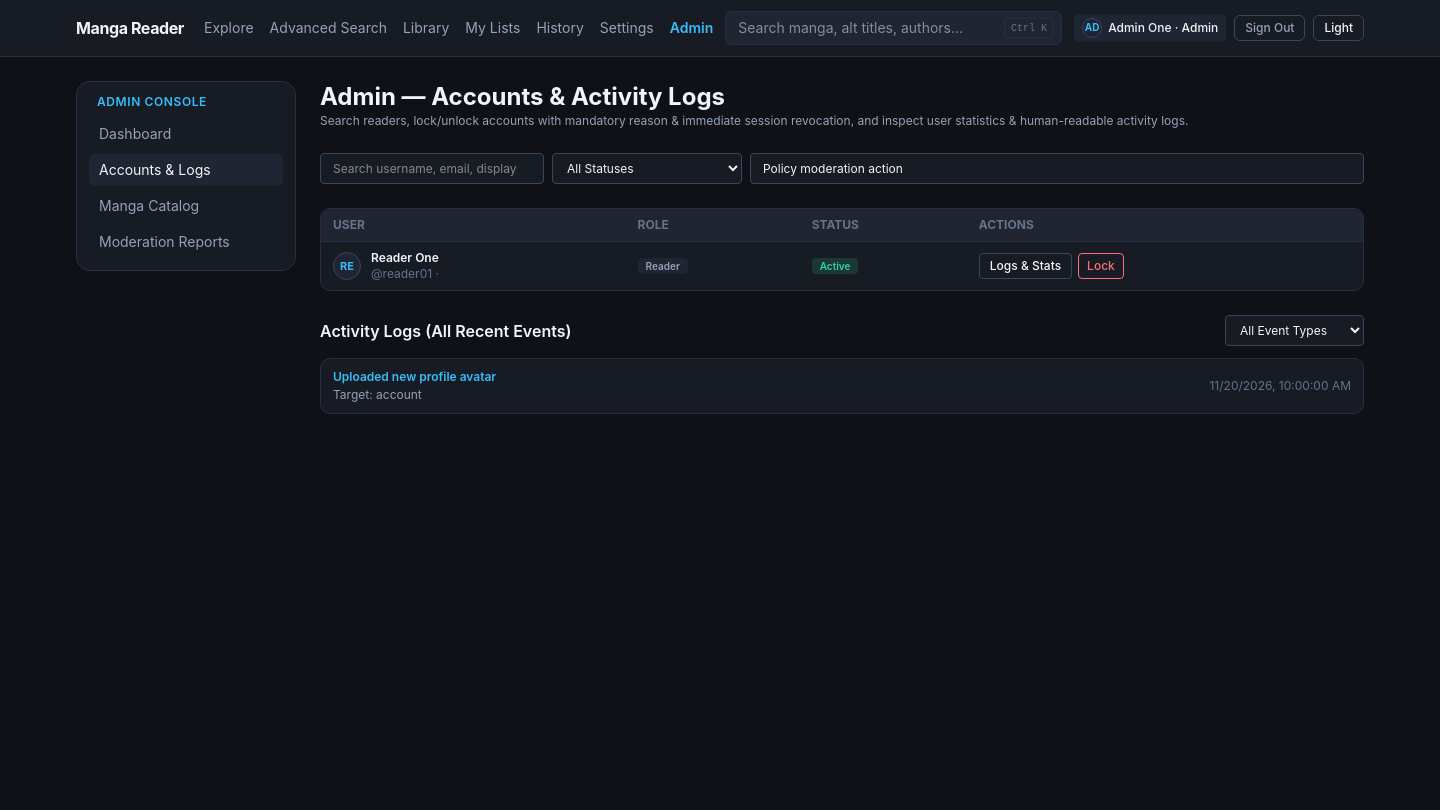
Test: Manga Reader Frontend Application › opens human-readable Logs & Stats modal in AdminAccountsPage without raw JSON
Expected: the link "Reader One" is shown, top-left (371, 250), bottom-right (439, 265)
Step 1. Click the button "Logs & Stats" → (1025, 266), box top-left (979, 253), bottom-right (1072, 279)
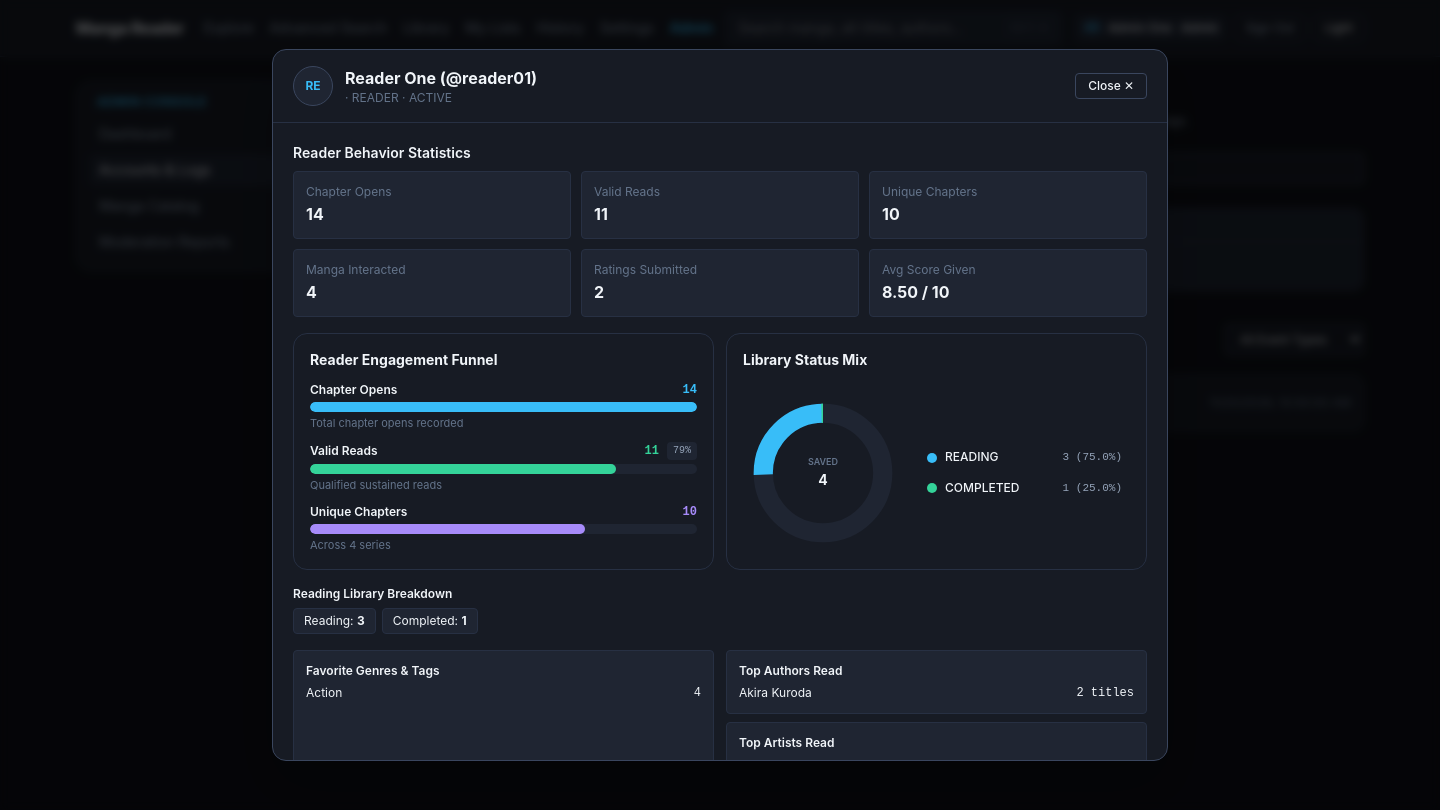
Expected: the text "Uploaded new profile avatar" is shown, top-left (333, 386), bottom-right (496, 402)
Now the dialog named "Account logs and statistics" is shown
Now the heading "Reader Behavior Statistics" is shown, box top-left (293, 144), bottom-right (471, 161)
